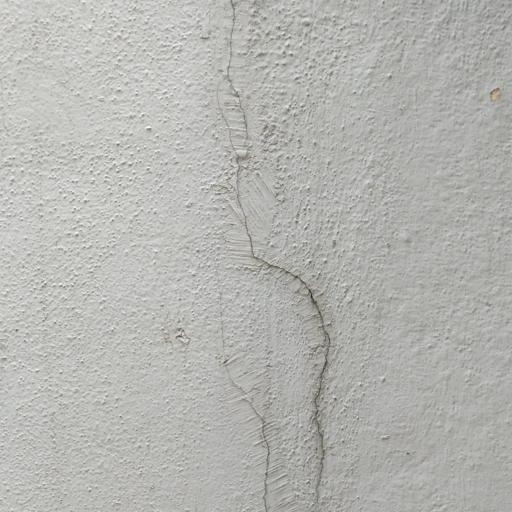minor_crack: (200, 0, 344, 512)
